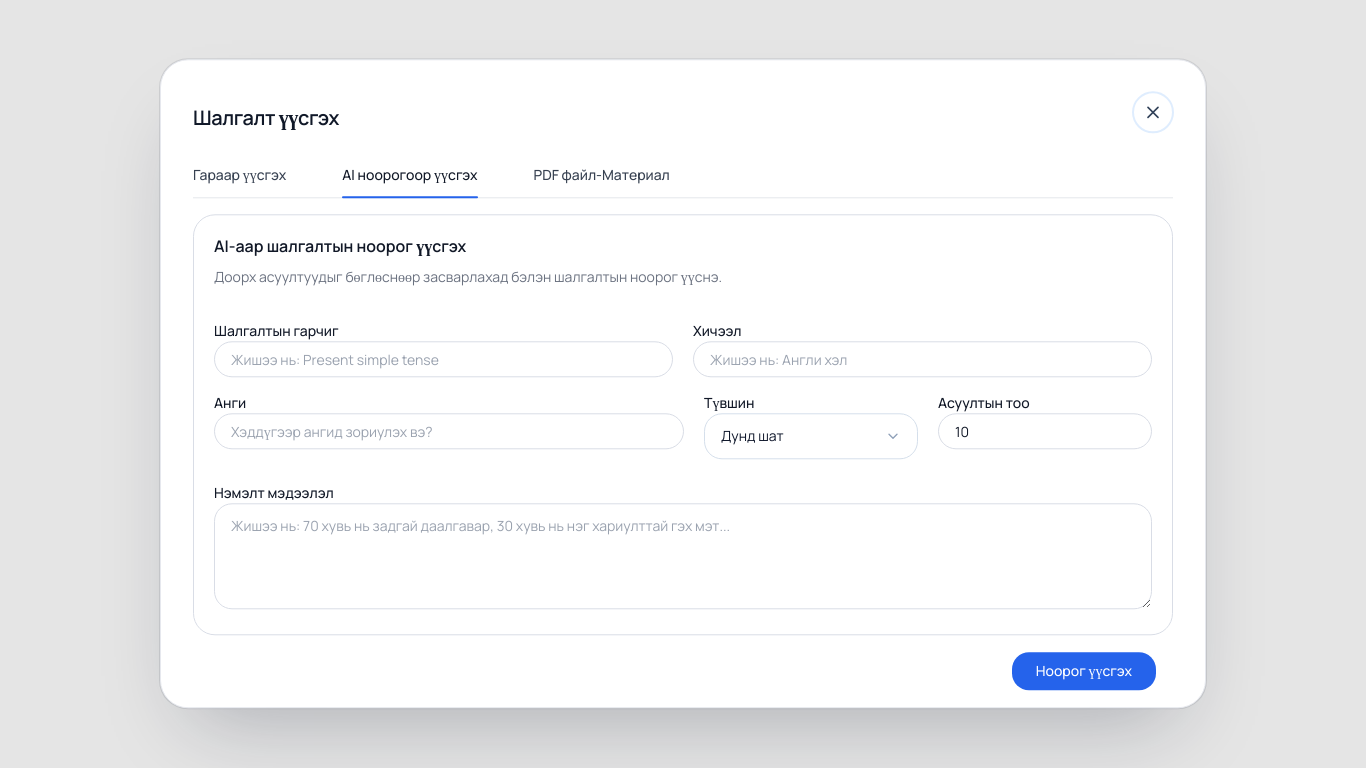
it: CreateExamDialogContent › blocks PDF navigation until a file and counts are provided
Step 1. Click the button "PDF файл-Материал" → x=602, y=181, box [534,165,670,197]
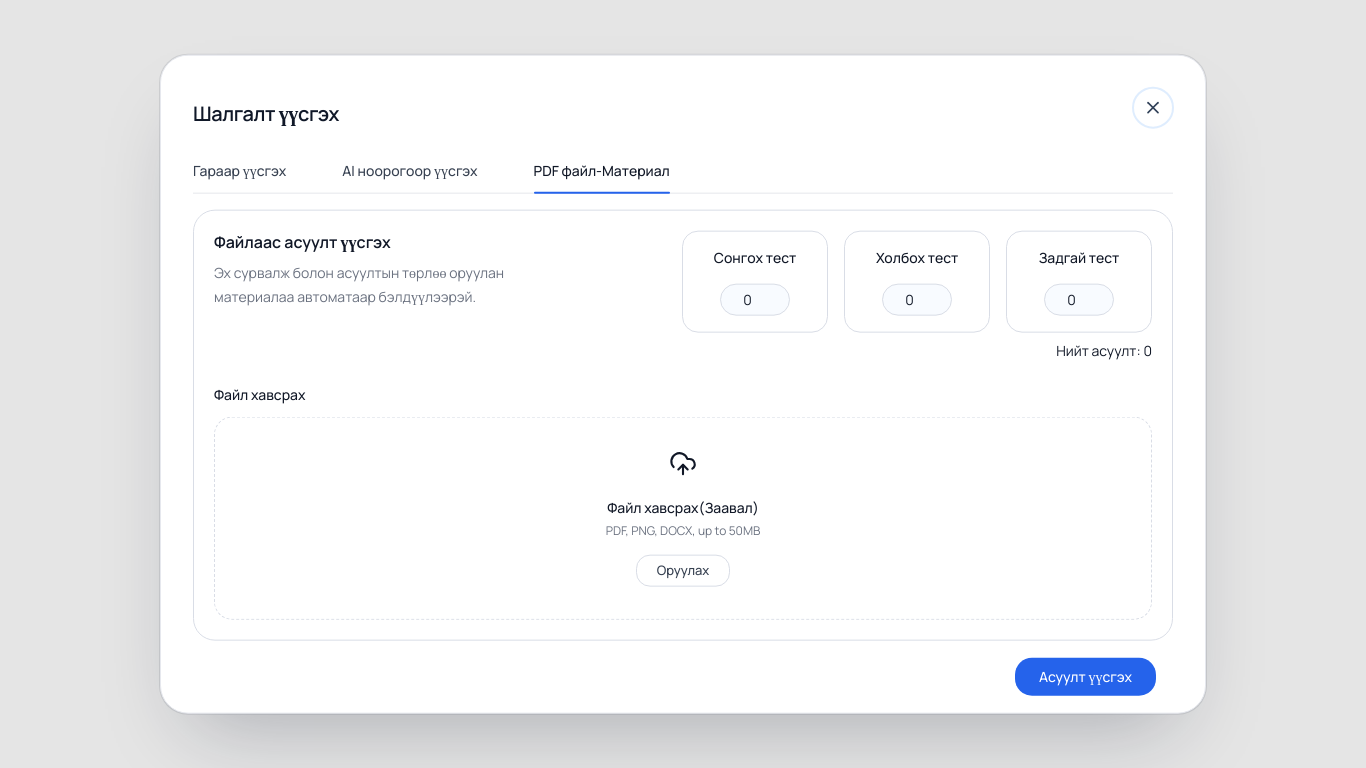
Step 2. Click the button "Асуулт үүсгэх" → x=1085, y=676, box [1014,656,1157,696]
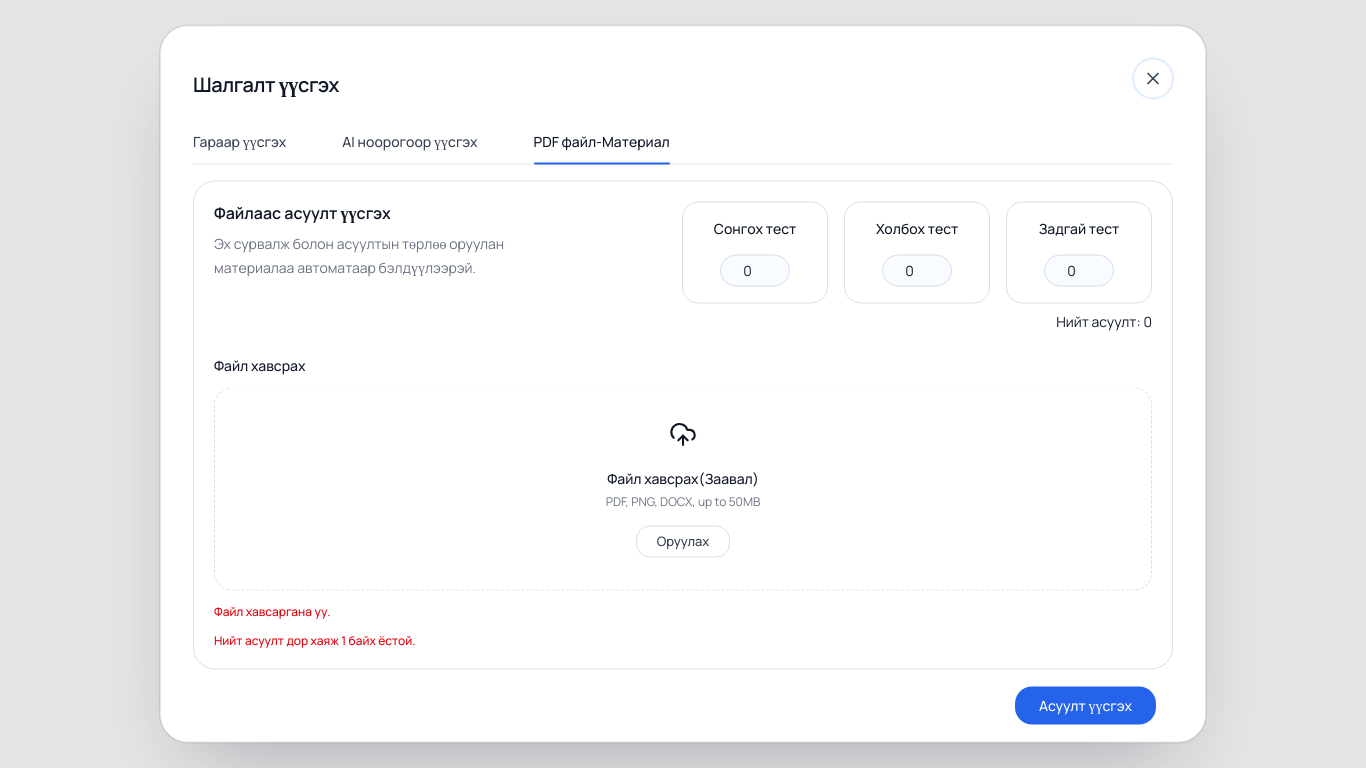
Expected: the text "Файл хавсаргана уу." is shown, [214,602,331,619]
Expected: the text "Нийт асуулт дор хаяж 1 байх ёстой." is shown, [214,631,415,648]
